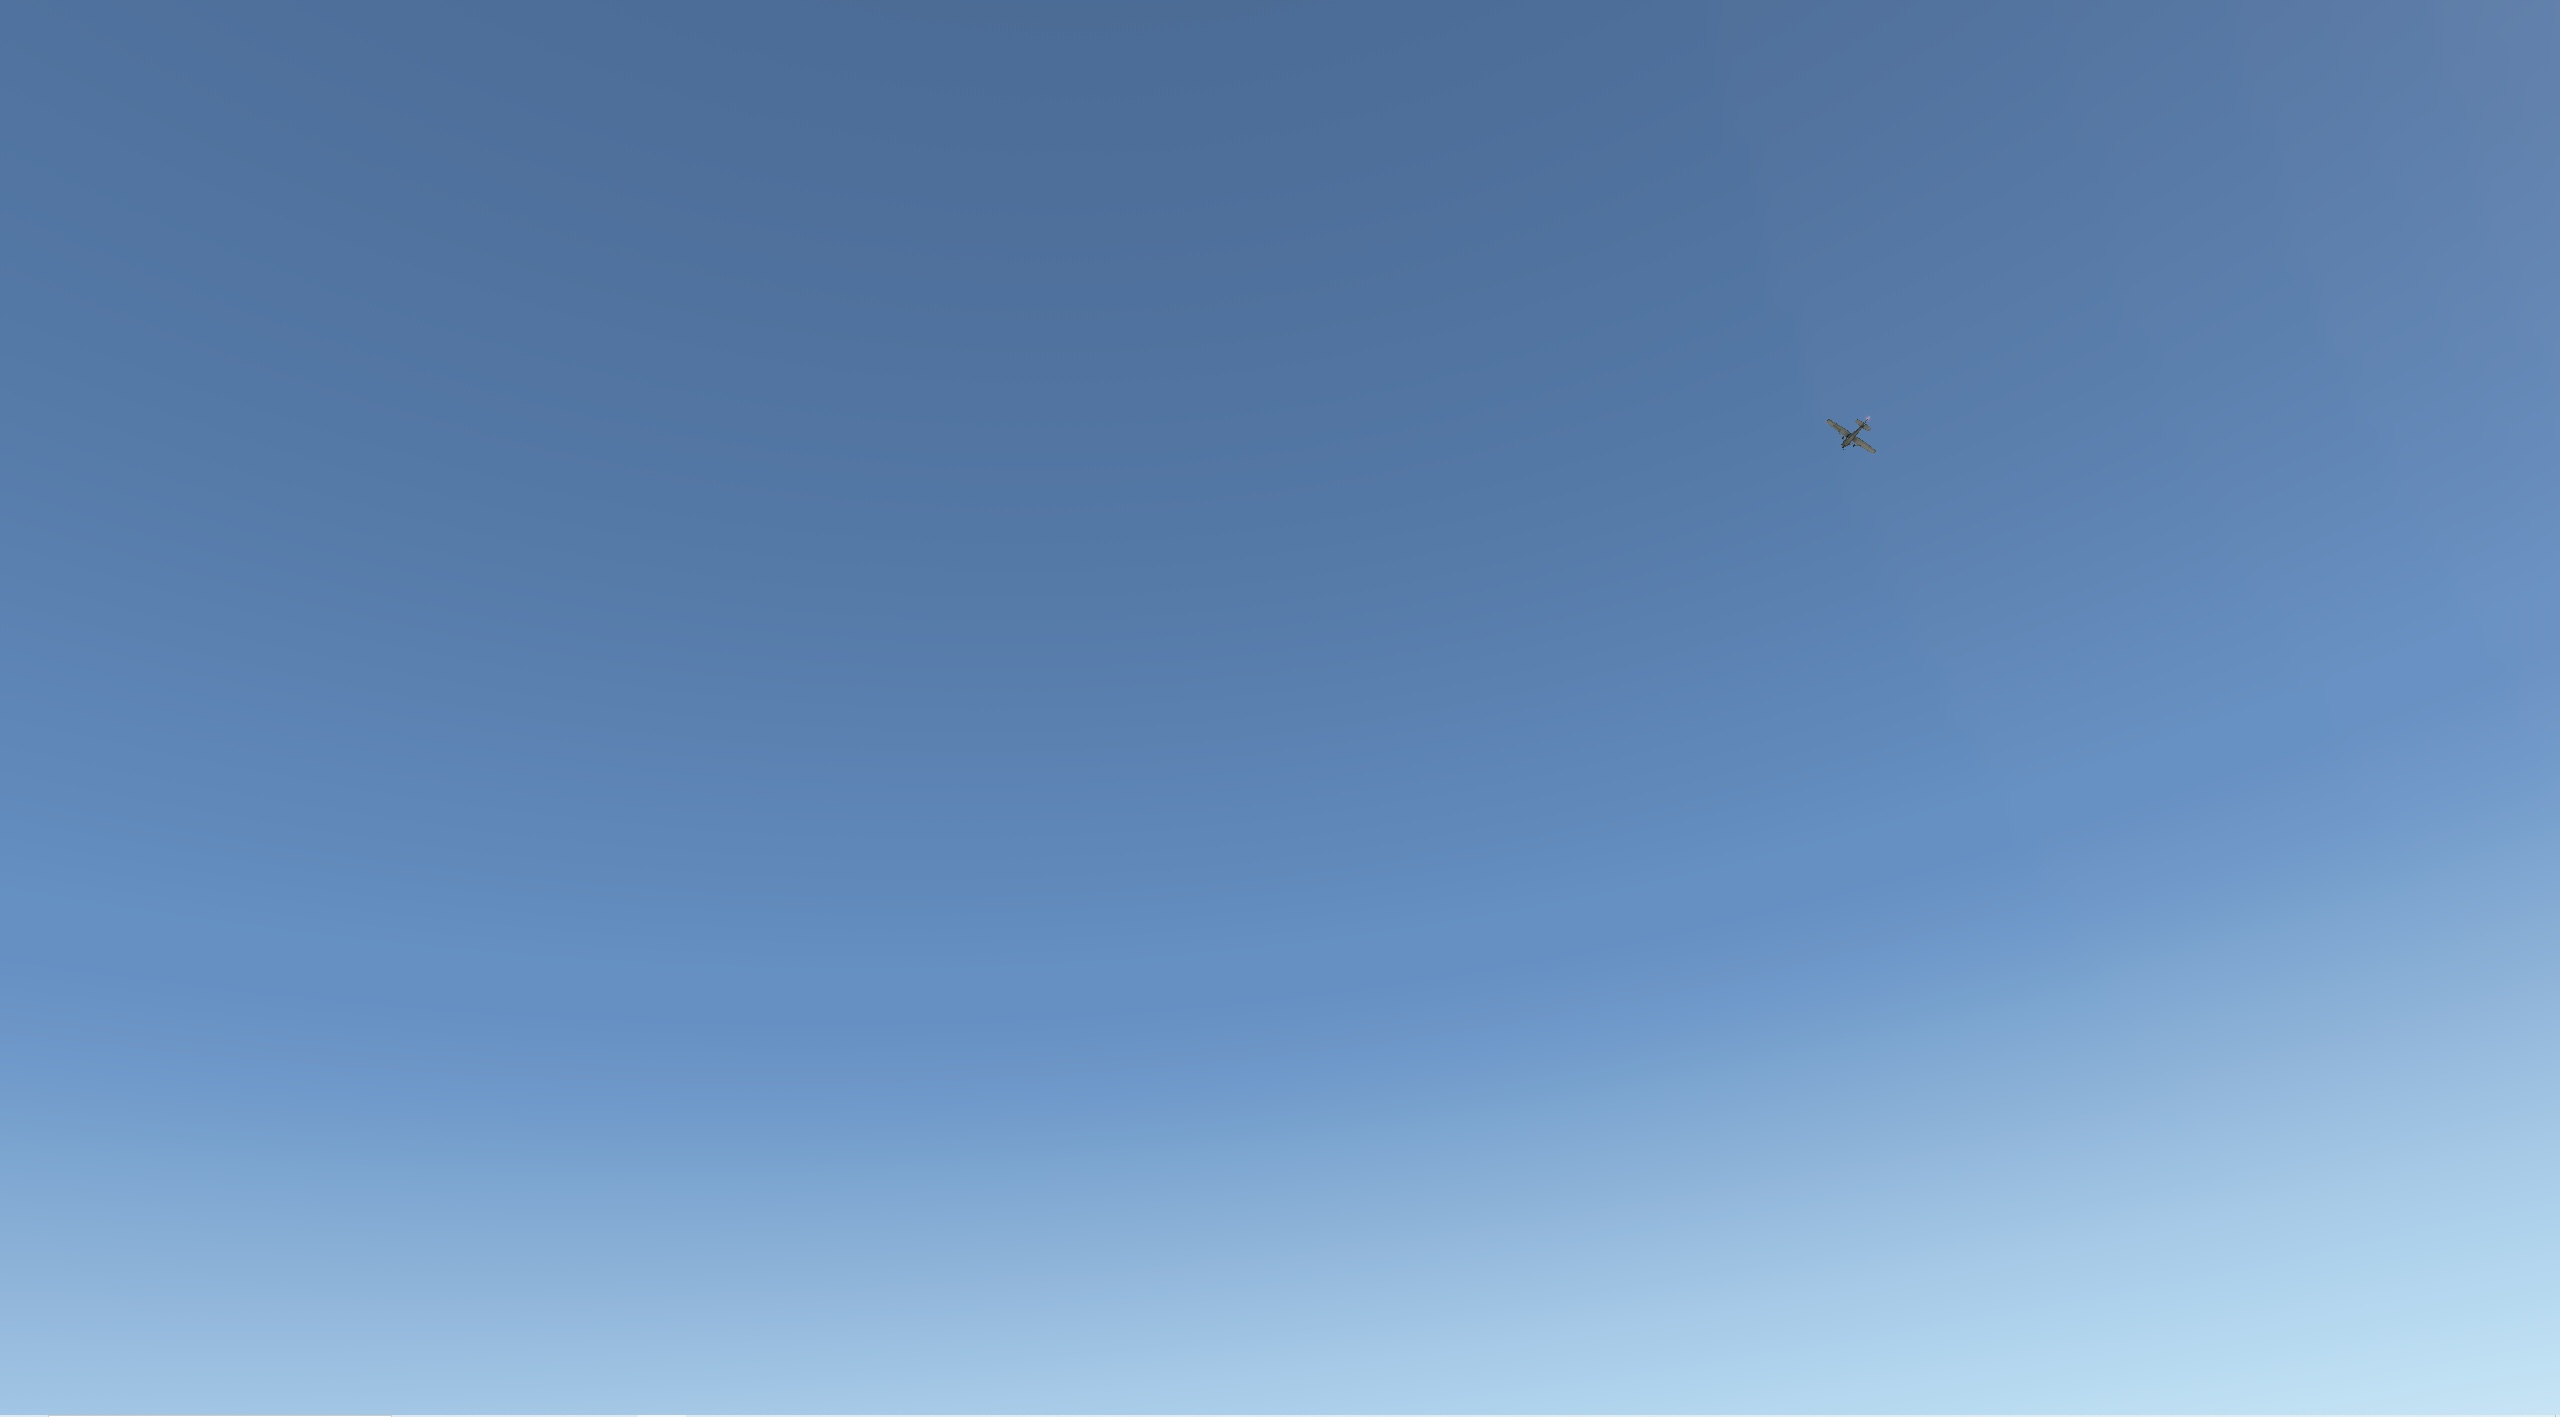aircraft: (1818, 428, 1881, 452)
